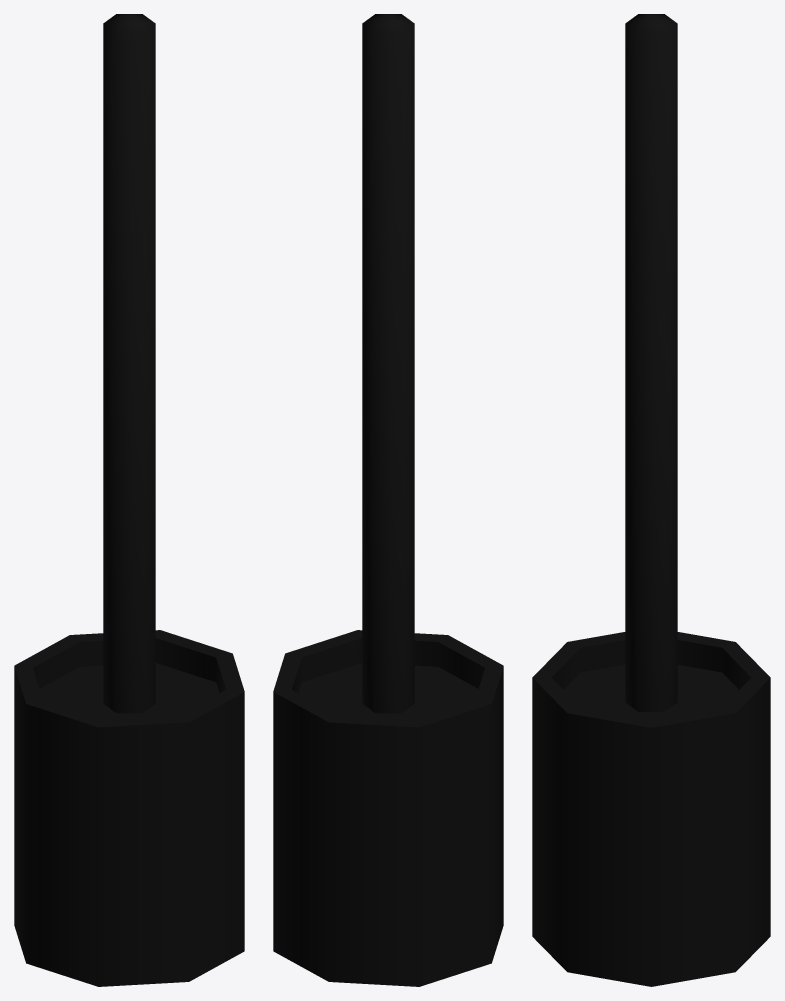
The model's file is ToiletBrush_Asset.fbx.
The picture shows the model from 3 angles, left to right: view 1: azimuth 30°, elevation 25°; view 2: azimuth 150°, elevation 25°; view 3: azimuth 270°, elevation 25°; orthographic projection.
Parts seen in each view (by area): view 1: ToiletBrush; view 2: ToiletBrush; view 3: ToiletBrush.
Part boxes in pixels (left/top/right/bottom): ToiletBrush: left=14, top=14, right=244, bottom=986; ToiletBrush: left=273, top=14, right=503, bottom=986; ToiletBrush: left=532, top=14, right=770, bottom=986.
Size of the model in its own units: 10 by 10 by 42.71.
